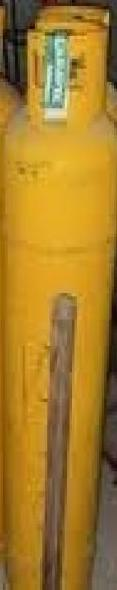cylinder: (0, 1, 117, 590)
